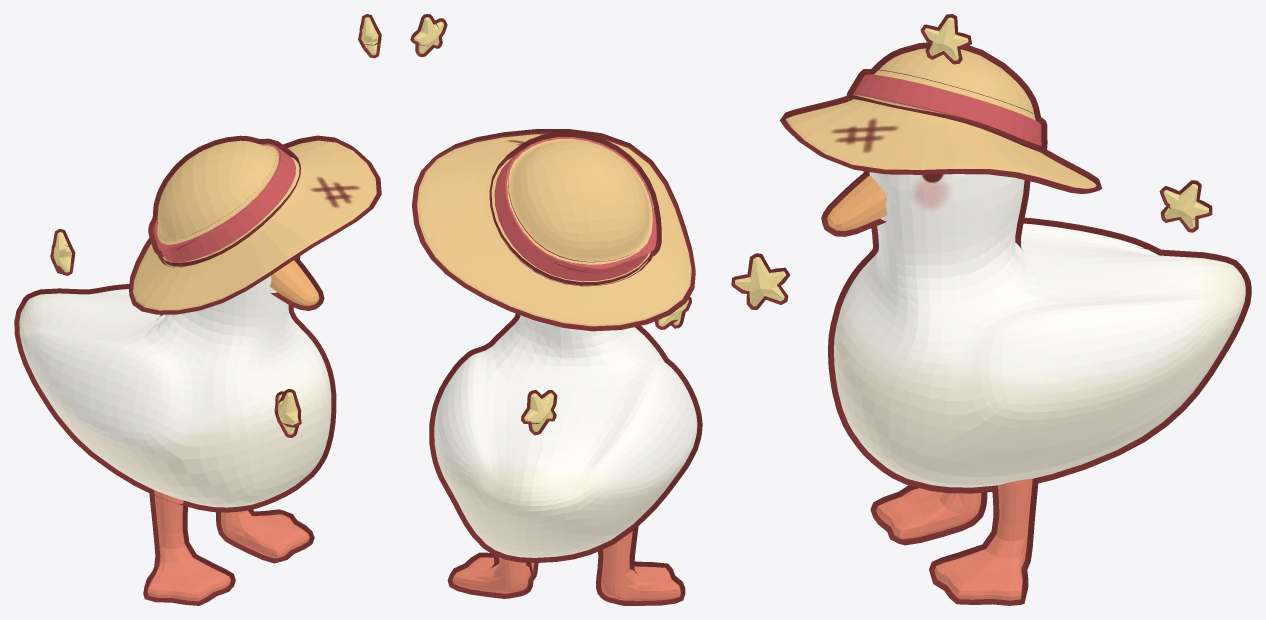
File: strawhat_duck-transformed.glb
3 renders of one model, left to right at view 1: azimuth 30°, elevation 25°; view 2: azimuth 150°, elevation 25°; view 3: azimuth 270°, elevation 25°, orthographic. The views are drawn at different scales.
Parts seen in each view (by area): view 1: defaultMaterial (×2); view 2: defaultMaterial (×2); view 3: defaultMaterial (×2).
Boxes of the visible parts, box(x1,y1,x2,y2) form: defaultMaterial (×2): box(14, 14, 381, 605); defaultMaterial (×2): box(410, 14, 702, 605); defaultMaterial (×2): box(731, 14, 1251, 605).
Size of the model in its own units: 0.462 by 0.8198 by 0.6163.
2 materials, 1 textured.
